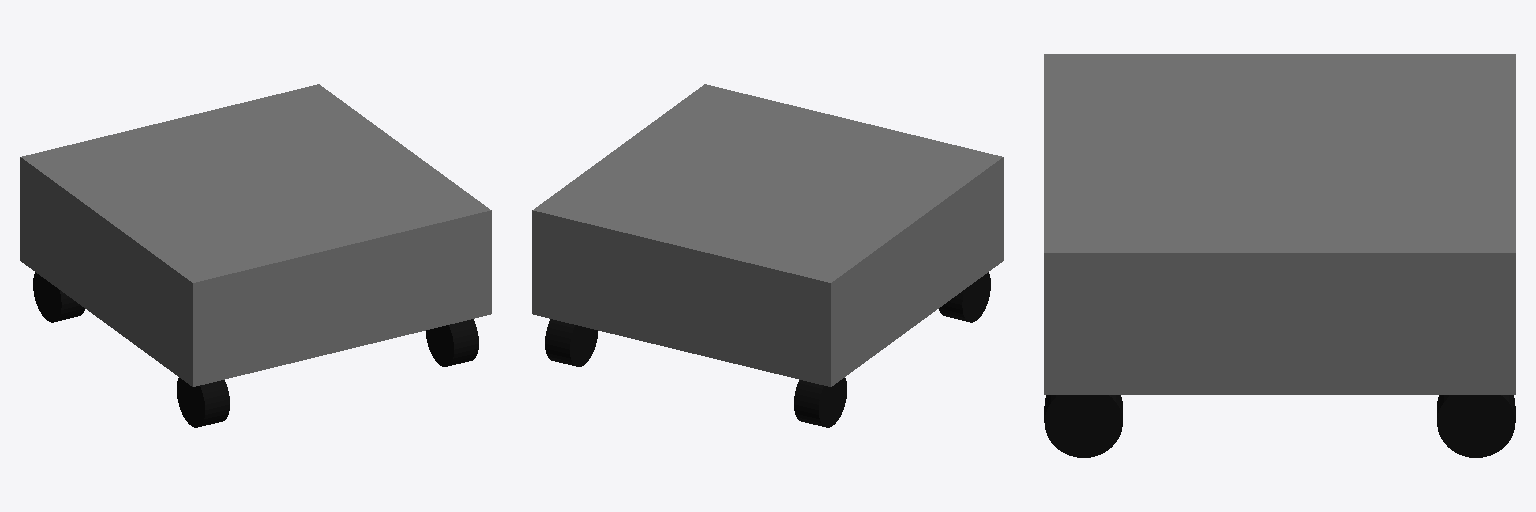
The robot description file, URDF, robot "panda_mobile_base":
<?xml version="1.0" ?>
<robot name="panda_mobile_base" xmlns:xacro="http://www.ros.org/wiki/xacro">

  <!-- Mobile Base -->
  <link name="mobile_base">
    <visual>
      <geometry>
        <box size="0.6 0.6 0.2"/> <!-- Base dimensions -->
      </geometry>
      <material name="base_grey">
        <color rgba="0.5 0.5 0.5 1.0"/>
      </material>
    </visual>
    <collision>
      <geometry>
        <box size="0.6 0.6 0.2"/>
      </geometry>
    </collision>
    <inertial>
      <origin rpy="0 0 0" xyz="0 0 0"/>
      <mass value="30.0"/>
      <inertia ixx="1.0" ixy="0.0" ixz="0.0" iyy="1.0" iyz="0.0" izz="1.0"/>
    </inertial>
  </link>

  <!-- Pole Links -->
  <link name="front_left_pole">
    <visual>
      <geometry>
        <cylinder length="0.1" radius="0.02"/> <!-- Pole-like joint -->
      </geometry>
      <material name="pole_black">
        <color rgba="0.2 0.2 0.2 1.0"/>
      </material>
    </visual>
    <collision>
      <geometry>
        <cylinder length="0.1" radius="0.02"/>
      </geometry>
    </collision>
    <inertial>
      <origin rpy="0 0 0" xyz="0 0 -0.05"/>
      <mass value="0.2"/>
      <inertia ixx="0.002" ixy="0" ixz="0" iyy="0.002" iyz="0" izz="0.002"/>
    </inertial>
  </link>

  <!-- Repeat for all poles -->
  <link name="front_right_pole">
    <visual>
      <geometry>
        <cylinder length="0.1" radius="0.02"/>
      </geometry>
      <material name="pole_black"/>
    </visual>
    <collision>
      <geometry>
        <cylinder length="0.1" radius="0.02"/>
      </geometry>
    </collision>
    <inertial>
      <origin rpy="0 0 0" xyz="0 0 -0.05"/>
      <mass value="0.2"/>
      <inertia ixx="0.002" ixy="0" ixz="0" iyy="0.002" iyz="0" izz="0.002"/>
    </inertial>
  </link>

  <link name="rear_left_pole">
    <visual>
      <geometry>
        <cylinder length="0.1" radius="0.02"/>
      </geometry>
      <material name="pole_black"/>
    </visual>
    <collision>
      <geometry>
        <cylinder length="0.1" radius="0.02"/>
      </geometry>
    </collision>
    <inertial>
      <origin rpy="0 0 0" xyz="0 0 -0.05"/>
      <mass value="0.2"/>
      <inertia ixx="0.002" ixy="0" ixz="0" iyy="0.002" iyz="0" izz="0.002"/>
    </inertial>
  </link>

  <link name="rear_right_pole">
    <visual>
      <geometry>
        <cylinder length="0.1" radius="0.02"/>
      </geometry>
      <material name="pole_black"/>
    </visual>
    <collision>
      <geometry>
        <cylinder length="0.1" radius="0.02"/>
      </geometry>
    </collision>
    <inertial>
      <origin rpy="0 0 0" xyz="0 0 -0.05"/>
      <mass value="0.2"/>
      <inertia ixx="0.002" ixy="0" ixz="0" iyy="0.002" iyz="0" izz="0.002"/>
    </inertial>
  </link>

  <!-- Wheel Links -->
  <!-- Front Left Wheel -->
  <link name="front_left_wheel">
    <visual>
      <geometry>
        <cylinder length="0.05" radius="0.05"/> <!-- Wheel dimensions -->
      </geometry>
      <material name="wheel_black">
        <color rgba="0.1 0.1 0.1 1.0"/>
      </material>
    </visual>
    <collision>
      <geometry>
        <cylinder length="0.05" radius="0.05"/> <!-- Collision geometry -->
      </geometry>
    </collision>
    <inertial>
      <origin rpy="0 0 0" xyz="0 0 0"/> <!-- Center of mass at the origin -->
      <mass value="0.5"/> <!-- Mass of the wheel -->
      <inertia ixx="0.01" ixy="0" ixz="0" iyy="0.01" iyz="0" izz="0.01"/> <!-- Inertia tensor -->
    </inertial>
  </link>

  <!-- Front Right Wheel -->
  <link name="front_right_wheel">
    <visual>
      <geometry>
        <cylinder length="0.05" radius="0.05"/> <!-- Wheel dimensions -->
      </geometry>
      <material name="wheel_black">
        <color rgba="0.1 0.1 0.1 1.0"/>
      </material>
    </visual>
    <collision>
      <geometry>
        <cylinder length="0.05" radius="0.05"/> <!-- Collision geometry -->
      </geometry>
    </collision>
    <inertial>
      <origin rpy="0 0 0" xyz="0 0 0"/> <!-- Center of mass at the origin -->
      <mass value="0.5"/> <!-- Mass of the wheel -->
      <inertia ixx="0.01" ixy="0" ixz="0" iyy="0.01" iyz="0" izz="0.01"/> <!-- Inertia tensor -->
    </inertial>
  </link>

  <!-- Rear Left Wheel -->
  <link name="rear_left_wheel">
    <visual>
      <geometry>
        <cylinder length="0.05" radius="0.05"/> <!-- Wheel dimensions -->
      </geometry>
      <material name="wheel_black">
        <color rgba="0.1 0.1 0.1 1.0"/>
      </material>
    </visual>
    <collision>
      <geometry>
        <cylinder length="0.05" radius="0.05"/> <!-- Collision geometry -->
      </geometry>
    </collision>
    <inertial>
      <origin rpy="0 0 0" xyz="0 0 0"/> <!-- Center of mass at the origin -->
      <mass value="0.5"/> <!-- Mass of the wheel -->
      <inertia ixx="0.01" ixy="0" ixz="0" iyy="0.01" iyz="0" izz="0.01"/> <!-- Inertia tensor -->
    </inertial>
  </link>

  <!-- Rear Right Wheel -->
  <link name="rear_right_wheel">
    <visual>
      <geometry>
        <cylinder length="0.05" radius="0.05"/> <!-- Wheel dimensions -->
      </geometry>
      <material name="wheel_black">
        <color rgba="0.1 0.1 0.1 1.0"/>
      </material>
    </visual>
    <collision>
      <geometry>
        <cylinder length="0.05" radius="0.05"/> <!-- Collision geometry -->
      </geometry>
    </collision>
    <inertial>
      <origin rpy="0 0 0" xyz="0 0 0"/> <!-- Center of mass at the origin -->
      <mass value="0.5"/> <!-- Mass of the wheel -->
      <inertia ixx="0.01" ixy="0" ixz="0" iyy="0.01" iyz="0" izz="0.01"/> <!-- Inertia tensor -->
    </inertial>
  </link>


  <!-- Steering Joints: Pole to Base -->
  <joint name="front_left_pole_joint" type="continuous">
    <origin xyz="0.25 0.25 -0.1" rpy="0 0 0"/>
    <parent link="mobile_base"/>
    <child link="front_left_pole"/>
    <axis xyz="0 0 1"/> <!-- Rotates about Z-axis -->
  </joint>

  <joint name="front_right_pole_joint" type="continuous">
    <origin xyz="0.25 -0.25 -0.1" rpy="0 0 0"/>
    <parent link="mobile_base"/>
    <child link="front_right_pole"/>
    <axis xyz="0 0 1"/> <!-- Rotates about Z-axis -->
  </joint>

  <joint name="rear_left_pole_joint" type="continuous">
    <origin xyz="-0.25 0.25 -0.1" rpy="0 0 0"/>
    <parent link="mobile_base"/>
    <child link="rear_left_pole"/>
    <axis xyz="0 0 1"/> <!-- Rotates about Z-axis -->
  </joint>

  <joint name="rear_right_pole_joint" type="continuous">
    <origin xyz="-0.25 -0.25 -0.1" rpy="0 0 0"/>
    <parent link="mobile_base"/>
    <child link="rear_right_pole"/>
    <axis xyz="0 0 1"/> <!-- Rotates about Z-axis -->
  </joint>

  <!-- Wheel Rotation Joints -->
  <joint name="front_left_wheel_rotation_joint" type="continuous">
    <origin xyz="0 0 -0.05" rpy="0 1.5708 0"/>
    <parent link="front_left_pole"/>
    <child link="front_left_wheel"/>
    <axis xyz="0 0 1"/> <!-- Wheel rotation about its own axis -->
  </joint>

  <joint name="front_right_wheel_rotation_joint" type="continuous">
    <origin xyz="0 0 -0.05" rpy="0 1.5708 0"/>
    <parent link="front_right_pole"/>
    <child link="front_right_wheel"/>
    <axis xyz="0 0 1"/>
  </joint>

  <joint name="rear_left_wheel_rotation_joint" type="continuous">
    <origin xyz="0 0 -0.05" rpy="0 1.5708 0"/>
    <parent link="rear_left_pole"/>
    <child link="rear_left_wheel"/>
    <axis xyz="0 0 1"/>
  </joint>

  <joint name="rear_right_wheel_rotation_joint" type="continuous">
    <origin xyz="0 0 -0.05" rpy="0 1.5708 0"/>
    <parent link="rear_right_pole"/>
    <child link="rear_right_wheel"/>
    <axis xyz="0 0 1"/>
  </joint>

  <!-- Fixed Joint: Arm Base to Mobile Base -->
  <joint name="arm_mount_joint" type="fixed">
    <origin xyz="0 0 0.1" rpy="0 0 0"/> <!-- Mount arm on top of mobile base -->
    <parent link="mobile_base"/>
    <child link="iiwa_link_0"/>
  </joint>

  <!-- IIWA Arm Links -->
  <link name="iiwa_link_0">
    <visual>
      <geometry>
        <mesh filename="package://iiwa_description/meshes/iiwa7/visual/link_0.stl"/>
      </geometry>
      <material name="panda_gray"/>
    </visual>
    <collision>
      <geometry>
        <mesh filename="package://iiwa_description/meshes/iiwa7/collision/link_0.stl"/>
      </geometry>
    </collision>
    <inertial>
      <origin xyz="0 0 0" rpy="0 0 0"/>
      <mass value="5.0"/>
      <inertia ixx="0.05" ixy="0" ixz="0" iyy="0.05" iyz="0" izz="0.05"/>
    </inertial>
  </link>

  <link name="iiwa_link_1">
    <visual>
      <geometry>
        <mesh filename="package://iiwa_description/meshes/iiwa7/visual/link_1.stl"/>
      </geometry>
      <material name="iiwa_orange">
        <color rgba="1.0 0.423529 0.0392157 1.0"/>
      </material>
    </visual>
    <collision>
      <geometry>
        <mesh filename="package://iiwa_description/meshes/iiwa7/collision/link_1.stl"/>
      </geometry>
    </collision>
    <inertial>
      <origin xyz="0 -0.03 0.12" rpy="0 0 0"/>
      <mass value="3.4525"/>
      <inertia ixx="0.0218946" ixy="0" ixz="0" iyy="0.02183" iyz="0" izz="0.00663837"/>
    </inertial>
  </link>

  <link name="iiwa_link_2">
    <visual>
      <geometry>
        <mesh filename="package://iiwa_description/meshes/iiwa7/visual/link_2.stl"/>
      </geometry>
      <material name="iiwa_orange"/>
    </visual>
    <collision>
      <geometry>
        <mesh filename="package://iiwa_description/meshes/iiwa7/collision/link_2.stl"/>
      </geometry>
    </collision>
    <inertial>
      <origin xyz="0.0003 0.059 0.042" rpy="0 0 0"/>
      <mass value="3.4821"/>
      <inertia ixx="0.02179" ixy="0" ixz="0" iyy="0.0217049" iyz="0" izz="0.00684512"/>
    </inertial>
  </link>

  <link name="iiwa_link_3">
    <visual>
      <geometry>
        <mesh filename="package://iiwa_description/meshes/iiwa7/visual/link_3.stl"/>
      </geometry>
      <material name="iiwa_orange"/>
    </visual>
    <collision>
      <geometry>
        <mesh filename="package://iiwa_description/meshes/iiwa7/collision/link_3.stl"/>
      </geometry>
    </collision>
    <inertial>
      <origin xyz="0 0.03 0.13" rpy="0 0 0"/>
      <mass value="4.05623"/>
      <inertia ixx="0.0321488" ixy="0" ixz="0" iyy="0.03204" iyz="0" izz="0.00799117"/>
    </inertial>
  </link>

  <link name="iiwa_link_4">
    <visual>
      <geometry>
        <mesh filename="package://iiwa_description/meshes/iiwa7/visual/link_4.stl"/>
      </geometry>
      <material name="iiwa_orange"/>
    </visual>
    <collision>
      <geometry>
        <mesh filename="package://iiwa_description/meshes/iiwa7/collision/link_4.stl"/>
      </geometry>
    </collision>
    <inertial>
      <origin xyz="0 0.067 0.034" rpy="0 0 0"/>
      <mass value="3.4822"/>
      <inertia ixx="0.02178" ixy="0" ixz="0" iyy="0.0216947" iyz="0" izz="0.00684029"/>
    </inertial>
  </link>

  <link name="iiwa_link_5">
    <visual>
      <geometry>
        <mesh filename="package://iiwa_description/meshes/iiwa7/visual/link_5.stl"/>
      </geometry>
      <material name="iiwa_orange"/>
    </visual>
    <collision>
      <geometry>
        <mesh filename="package://iiwa_description/meshes/iiwa7/collision/link_5.stl"/>
      </geometry>
    </collision>
    <inertial>
      <origin xyz="0.0001 0.021 0.076" rpy="0 0 0"/>
      <mass value="2.1633"/>
      <inertia ixx="0.0131987" ixy="0" ixz="0" iyy="0.01287" iyz="0" izz="0.0036293"/>
    </inertial>
  </link>

  <link name="iiwa_link_6">
    <visual>
      <geometry>
        <mesh filename="package://iiwa_description/meshes/iiwa7/visual/link_6.stl"/>
      </geometry>
      <material name="iiwa_orange"/>
    </visual>
    <collision>
      <geometry>
        <mesh filename="package://iiwa_description/meshes/iiwa7/collision/link_6.stl"/>
      </geometry>
    </collision>
    <inertial>
      <origin xyz="0 0.0006 0.0004" rpy="0 0 0"/>
      <mass value="2.3466"/>
      <inertia ixx="0.006509" ixy="0" ixz="0" iyy="0.00631585" iyz="0" izz="0.00447015"/>
    </inertial>
  </link>

  <link name="iiwa_link_7">
    <visual>
      <geometry>
        <mesh filename="package://iiwa_description/meshes/iiwa7/visual/link_7.stl"/>
      </geometry>
      <material name="panda_gray"/>
    </visual>
    <collision>
      <geometry>
        <mesh filename="package://iiwa_description/meshes/iiwa7/collision/link_7.stl"/>
      </geometry>
    </collision>
    <inertial>
      <origin xyz="0 0 0.02" rpy="0 0 0"/>
      <mass value="3.129"/>
      <inertia ixx="0.0152362" ixy="0" ixz="0" iyy="0.0140538" iyz="0" izz="0.002872"/>
    </inertial>
  </link>

  <!-- IIWA Arm Joints -->
  <joint name="iiwa_joint_1" type="revolute">
    <origin xyz="0 0 0.15" rpy="0 0 0"/>
    <parent link="iiwa_link_0"/>
    <child link="iiwa_link_1"/>
    <axis xyz="0 0 1"/>
    <limit lower="-2.96706" upper="2.96706" effort="300" velocity="1.4835"/>
    <dynamics damping="0.5"/>
  </joint>

  <joint name="iiwa_joint_2" type="revolute">
    <origin xyz="0 0 0.19" rpy="1.5708 0 3.14159"/>
    <parent link="iiwa_link_1"/>
    <child link="iiwa_link_2"/>
    <axis xyz="0 0 1"/>
    <limit lower="-2.0944" upper="2.0944" effort="300" velocity="1.4835"/>
    <dynamics damping="0.5"/>
  </joint>

  <joint name="iiwa_joint_3" type="revolute">
    <origin xyz="0 0.21 0" rpy="1.5708 0 3.14159"/>
    <parent link="iiwa_link_2"/>
    <child link="iiwa_link_3"/>
    <axis xyz="0 0 1"/>
    <limit lower="-2.96706" upper="2.96706" effort="300" velocity="1.7453"/>
    <dynamics damping="0.5"/>
  </joint>

  <joint name="iiwa_joint_4" type="revolute">
    <origin xyz="0 0 0.19" rpy="1.5708 0 0"/>
    <parent link="iiwa_link_3"/>
    <child link="iiwa_link_4"/>
    <axis xyz="0 0 1"/>
    <limit lower="-2.0944" upper="2.0944" effort="300" velocity="1.3090"/>
    <dynamics damping="0.5"/>
  </joint>

  <joint name="iiwa_joint_5" type="revolute">
    <origin xyz="0 0.21 0" rpy="-1.5708 3.14159 0"/>
    <parent link="iiwa_link_4"/>
    <child link="iiwa_link_5"/>
    <axis xyz="0 0 1"/>
    <limit lower="-2.96706" upper="2.96706" effort="300" velocity="2.2689"/>
    <dynamics damping="0.5"/>
  </joint>

  <joint name="iiwa_joint_6" type="revolute">
    <origin xyz="0 0.0607 0.19" rpy="1.5708 0 0"/>
    <parent link="iiwa_link_5"/>
    <child link="iiwa_link_6"/>
    <axis xyz="0 0 1"/>
    <limit lower="-2.0944" upper="2.0944" effort="300" velocity="2.3562"/>
    <dynamics damping="0.5"/>
  </joint>

  <joint name="iiwa_joint_7" type="revolute">
    <origin xyz="0 0.081 0.0607" rpy="-1.5708 3.14159 0"/>
    <parent link="iiwa_link_6"/>
    <child link="iiwa_link_7"/>
    <axis xyz="0 0 1"/>
    <limit lower="-3.05433" upper="3.05433" effort="300" velocity="2.3562"/>
    <dynamics damping="0.5"/>
  </joint>

  <!-- Materials -->
  <material name="base_grey">
    <color rgba="0.5 0.5 0.5 1.0"/>
  </material>
  <material name="wheel_black">
    <color rgba="0.1 0.1 0.1 1.0"/>
  </material>
  <material name="panda_white">
    <color rgba="1. 1. 1. 1."/>
  </material>
  <material name="panda_gray">
    <color rgba=".8 .8 .8 1."/>
  </material>
  <material name="iiwa_orange">
    <color rgba="1.0 0.423529 0.0392157 1.0"/>
  </material>
</robot>

--- Render facts (derived) ---
The picture shows the robot from 3 angles, left to right: view 1: azimuth 30°, elevation 25°; view 2: azimuth 150°, elevation 25°; view 3: azimuth 270°, elevation 25°; orthographic projection.
Robot: panda_mobile_base — 17 links, 16 joints (7 revolute, 8 continuous, 1 fixed); root link mobile_base; default pose: all joints at 0.
Links seen in each view (by area): view 1: mobile_base, rear_right_wheel, front_right_wheel, rear_left_wheel; view 2: mobile_base, rear_left_wheel, front_left_wheel, rear_right_wheel; view 3: mobile_base, front_left_wheel, front_right_wheel.
Boxes of the visible links, x1=… form: mobile_base: x1=20, y1=84, x2=491, y2=386; rear_right_wheel: x1=177, y1=378, x2=229, y2=427; front_right_wheel: x1=426, y1=319, x2=478, y2=366; rear_left_wheel: x1=33, y1=272, x2=84, y2=322; mobile_base: x1=532, y1=84, x2=1003, y2=386; rear_left_wheel: x1=794, y1=378, x2=846, y2=427; front_left_wheel: x1=545, y1=319, x2=597, y2=366; rear_right_wheel: x1=939, y1=272, x2=990, y2=322; mobile_base: x1=1044, y1=54, x2=1515, y2=394; front_left_wheel: x1=1437, y1=395, x2=1515, y2=457; front_right_wheel: x1=1044, y1=395, x2=1122, y2=457.
Bounding box of the posed robot: 0.6 × 0.6 × 0.3 m (x, y, z).
Meshes: 8 distinct files referenced, 0 mesh visuals loaded (none loaded); not drawn: 8 (reference not matched to a file when rendering).